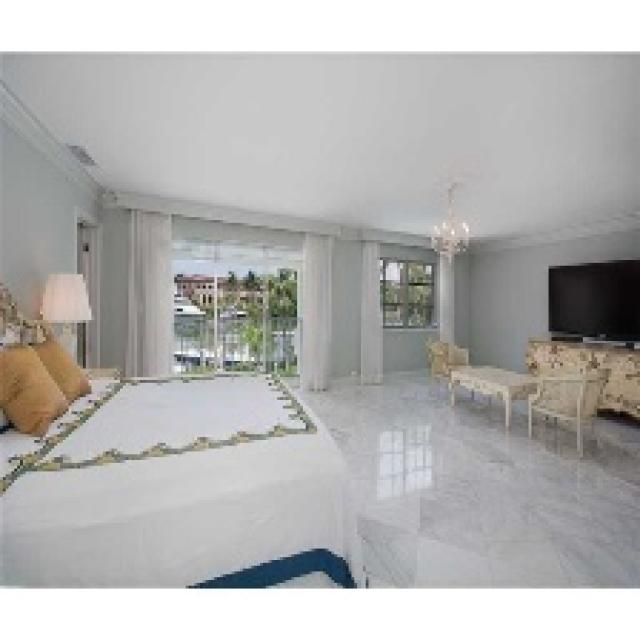Bed: (0, 274, 360, 586)
